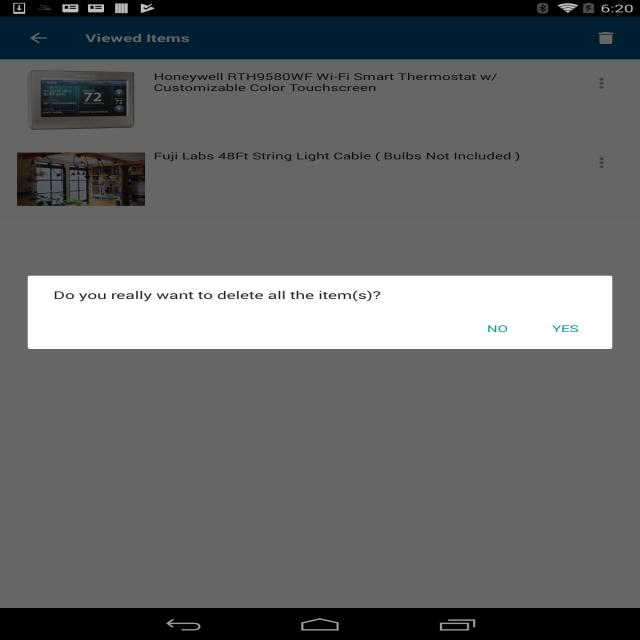button: (589, 28, 626, 54), (543, 321, 591, 340), (22, 31, 56, 51), (594, 151, 613, 174), (480, 322, 511, 336), (593, 74, 610, 95)
image: (14, 149, 148, 209), (23, 68, 136, 132)
text: (150, 71, 510, 94), (46, 285, 385, 309), (152, 147, 523, 166)
